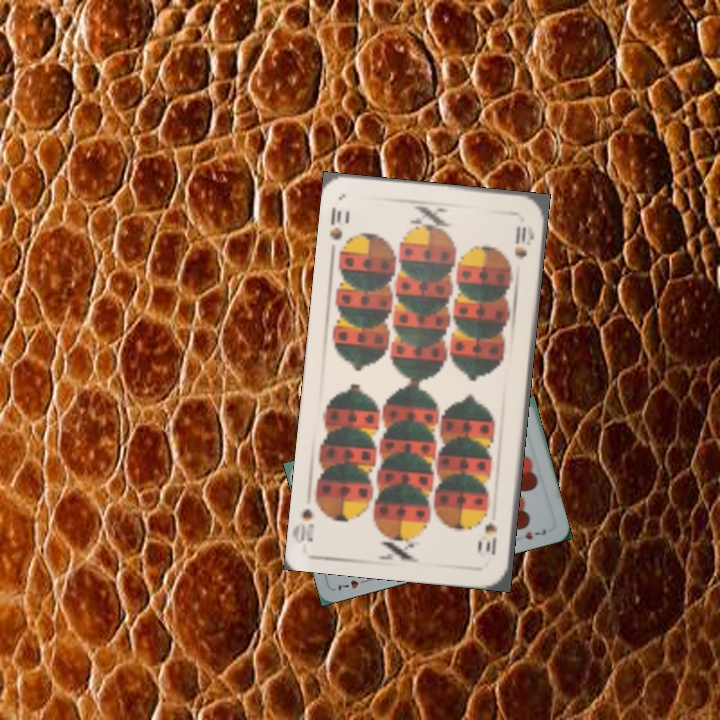H7: (334, 575, 372, 594)
S10: (481, 517, 500, 558), (326, 203, 345, 243)
